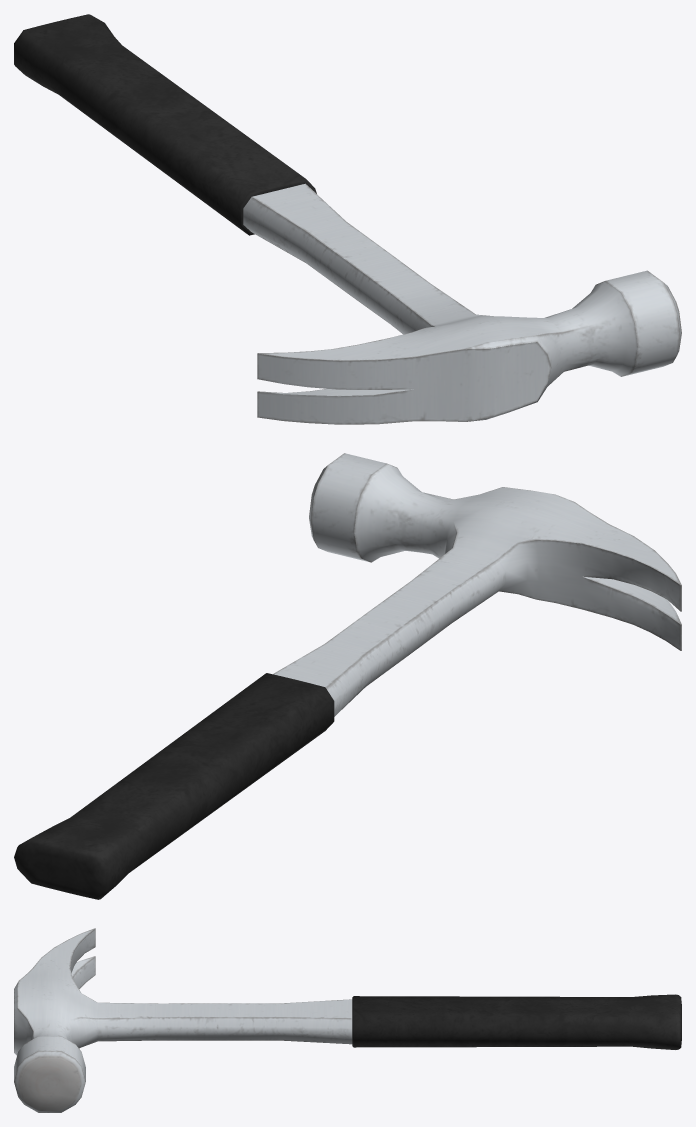
File: hammer.glb
The picture shows the model from 3 angles, top to bottom: view 1: azimuth 30°, elevation 25°; view 2: azimuth 150°, elevation 25°; view 3: azimuth 270°, elevation 25°; orthographic projection. The views are drawn at different scales.
Visible parts, largest first — view 1: ClawHammer_Hammers_0; view 2: ClawHammer_Hammers_0; view 3: ClawHammer_Hammers_0.
Boxes of the visible parts, x1,y1,x2,y2 form: ClawHammer_Hammers_0: (14, 14, 681, 424); ClawHammer_Hammers_0: (14, 453, 681, 899); ClawHammer_Hammers_0: (14, 928, 681, 1112).
Size of the model in its own units: 0.1552 by 0.0336 by 0.3295.
Materials: 1 (1 with a texture image).
